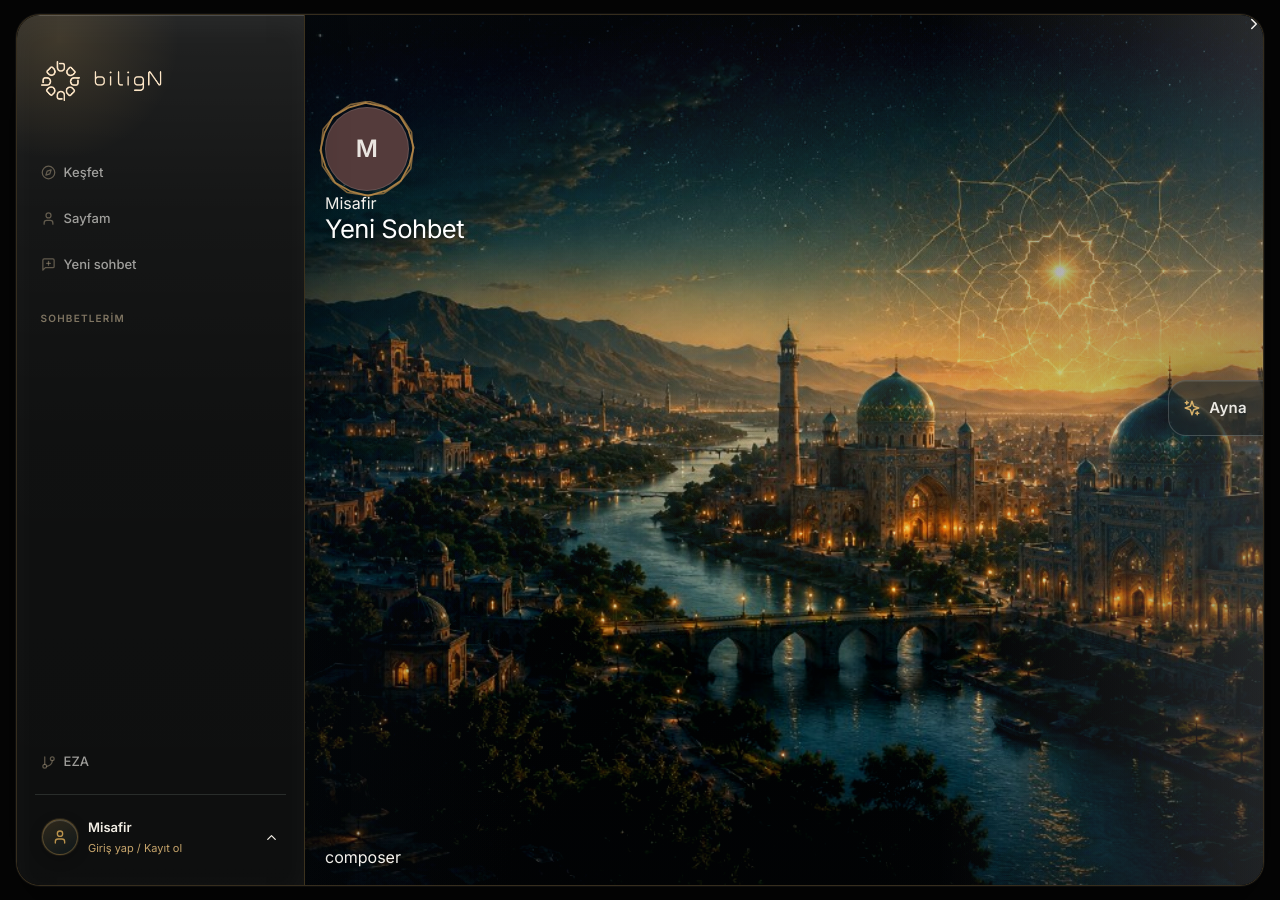
SainaStandaloneShell (Sprint B.2B) › opens profile menu with Güvenli Mod and model selector
Click the button with test id "saina-profile-menu-trigger" at (160, 837), box top-left (35, 807), bottom-right (286, 867)
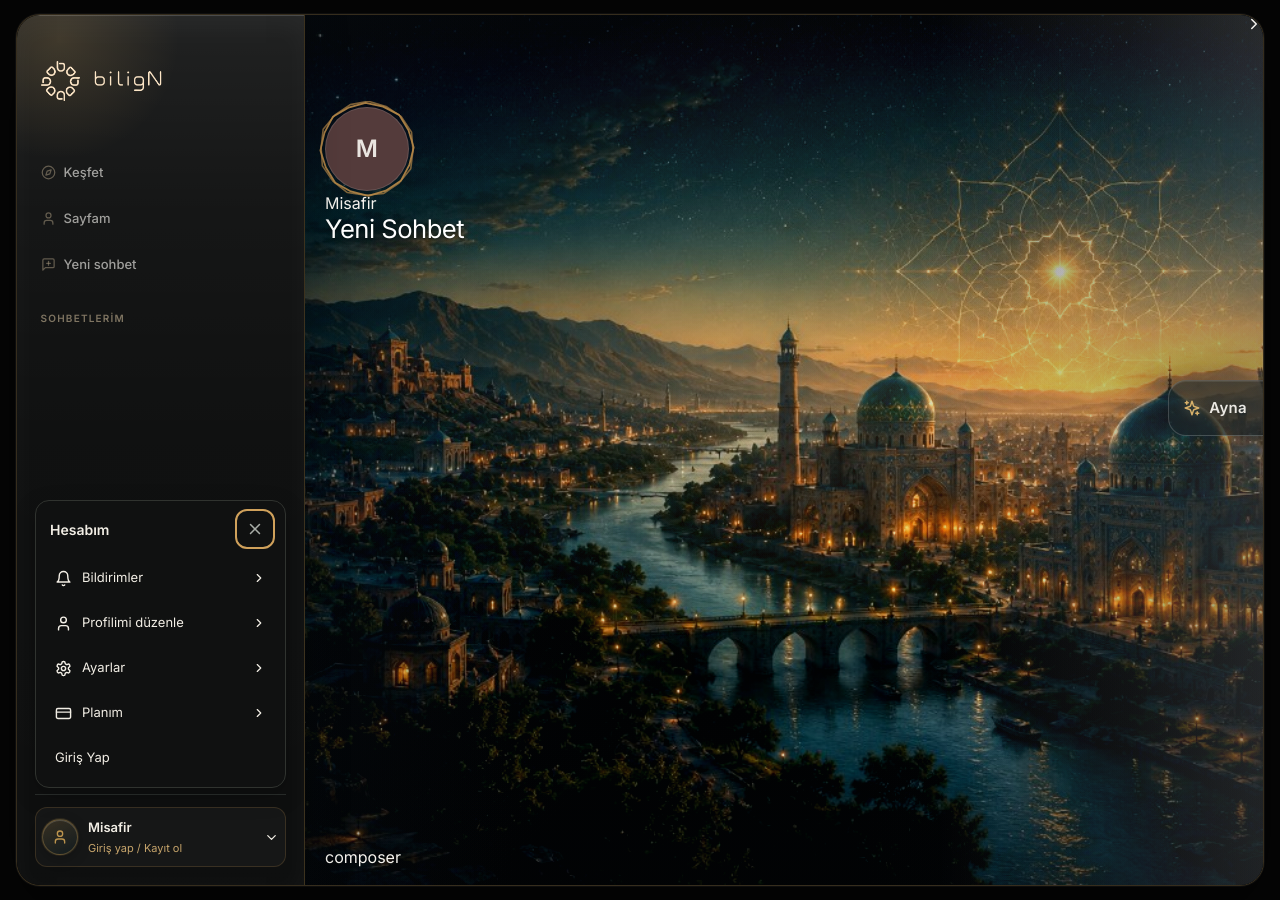
Expected: the dialog with test id "saina-profile-menu" is shown, top-left (35, 500), bottom-right (286, 788)
Click the button with test id "saina-profile-nav-settings" at (160, 668), box top-left (44, 647), bottom-right (277, 689)
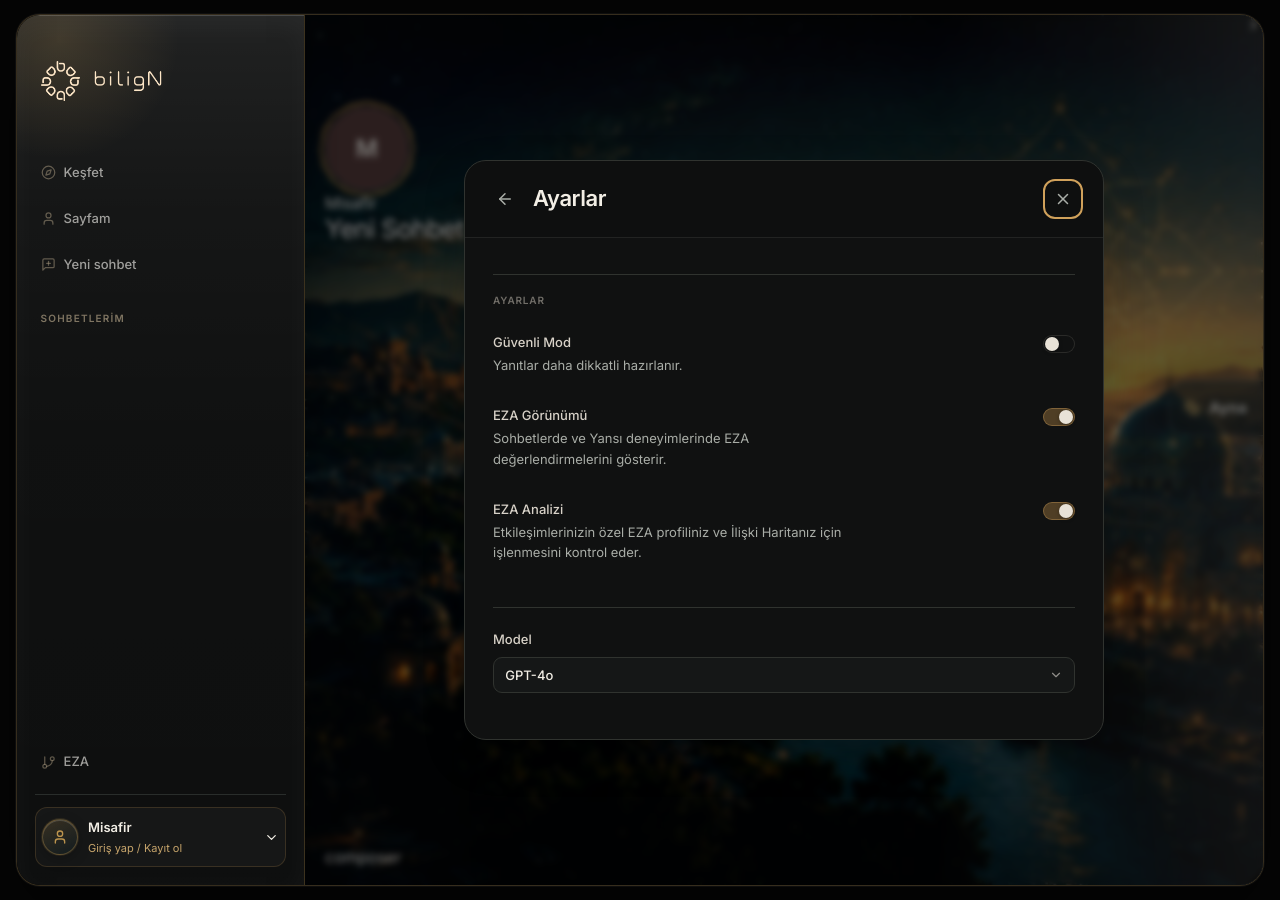
Expected: the text "Güvenli Mod" is shown, top-left (493, 334), bottom-right (571, 350)
Expected: the text "Model" is shown, top-left (493, 631), bottom-right (532, 647)
